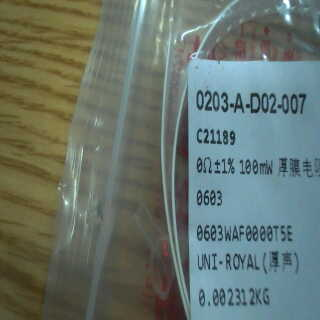0R: (194, 147, 275, 207)
